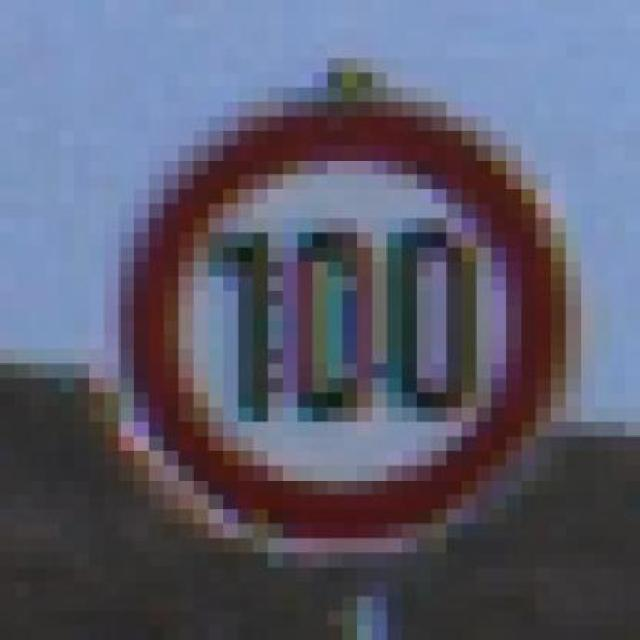forb_speed_over_100: (130, 113, 559, 542)
